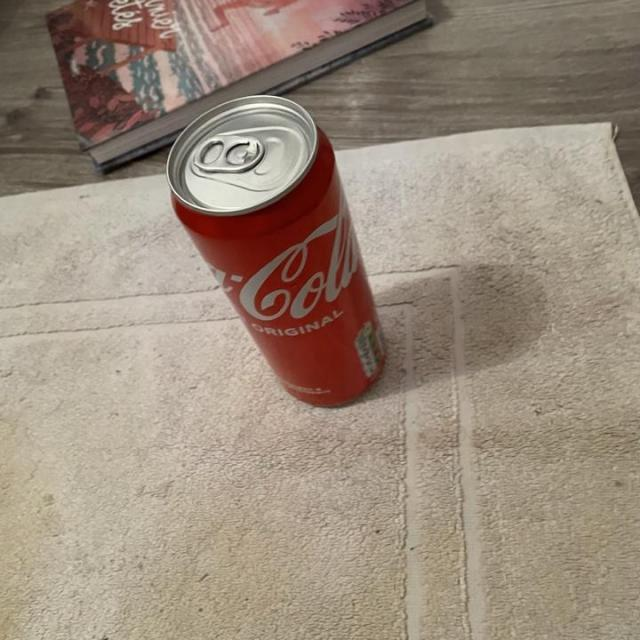recyclable: (162, 82, 400, 412)
